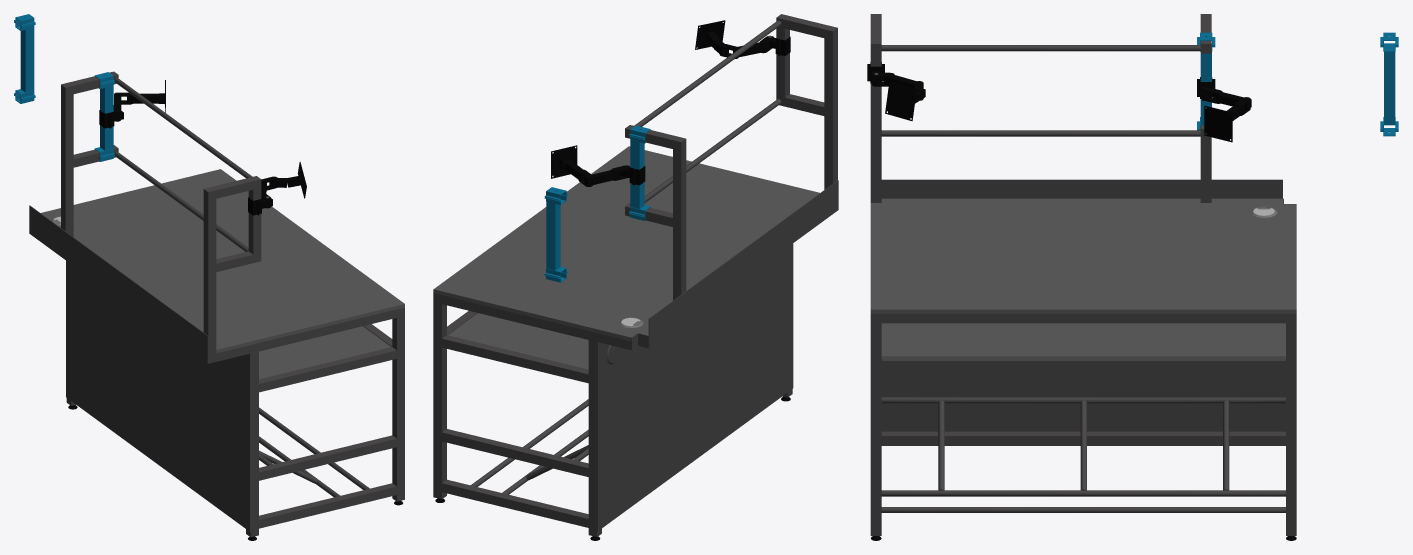
File: suporte-articulado.glb
3 views of the same model, side by side, from view 1: azimuth 30°, elevation 25°; view 2: azimuth 150°, elevation 25°; view 3: azimuth 270°, elevation 25° (orthographic). The views are drawn at different scales.
Visible parts, largest first — view 1: Polygon__0, Polygon_16_Mat.2_0; view 2: Polygon__0, Polygon_16_Mat.2_0; view 3: Polygon_16_Mat.2_0, Polygon__0.
Part boxes in pixels (x1,y1,x2,y2): Polygon__0: (29, 71, 404, 537); Polygon_16_Mat.2_0: (14, 14, 404, 540); Polygon__0: (433, 14, 838, 536); Polygon_16_Mat.2_0: (433, 20, 819, 540); Polygon_16_Mat.2_0: (867, 32, 1398, 540); Polygon__0: (870, 14, 1296, 535).
Size of the model in its own units: 0.9281 by 1.62 by 1.87.
2 materials, 2 textured.
